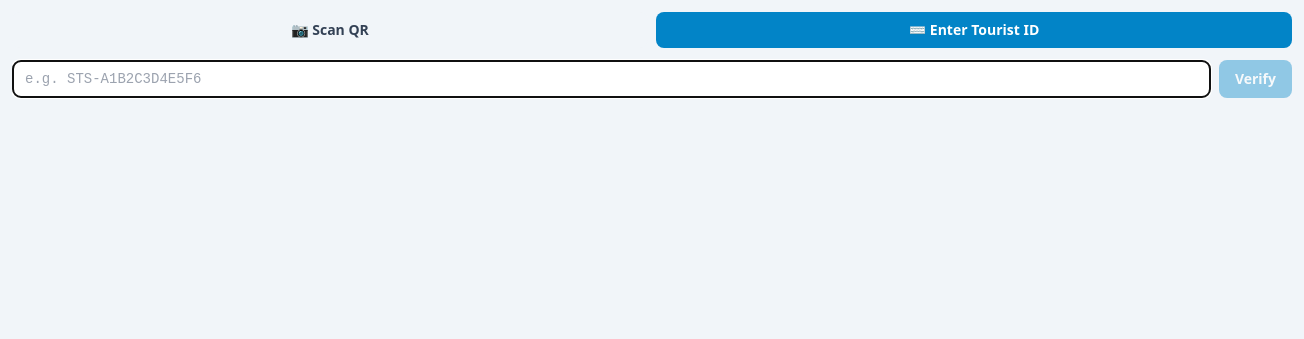
Test case: TouristIdScanner › manual lookup shows a verified tourist
Step 1. Type "STS-ABC123" into the field with placeholder "e.g. STS-A1B2C3D4E5F6" → (611, 79), box left=12, top=60, right=1211, bottom=98
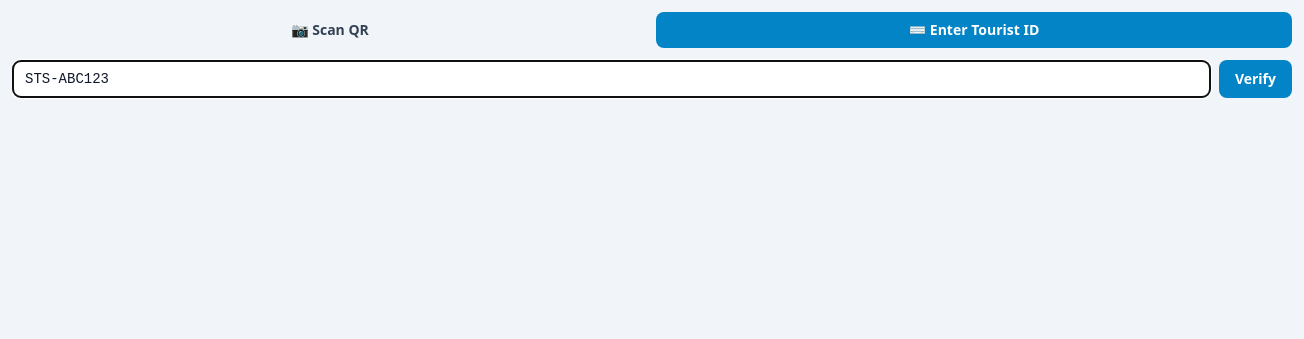
Step 2. Click the button "Verify" → (1255, 79), box left=1219, top=60, right=1292, bottom=98
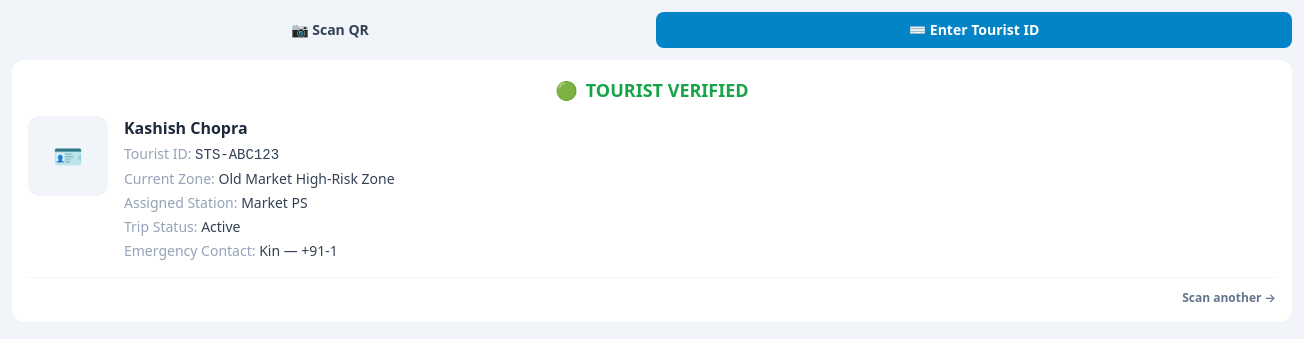
Expected: the text "🟢 TOURIST VERIFIED" is shown, left=555, top=78, right=749, bottom=102
Expected: the text "Kashish Chopra" is shown, left=124, top=117, right=248, bottom=139
Expected: the text "Market PS" is shown, left=241, top=193, right=308, bottom=212
